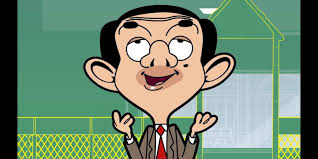mrbean: (83, 4, 238, 159)
